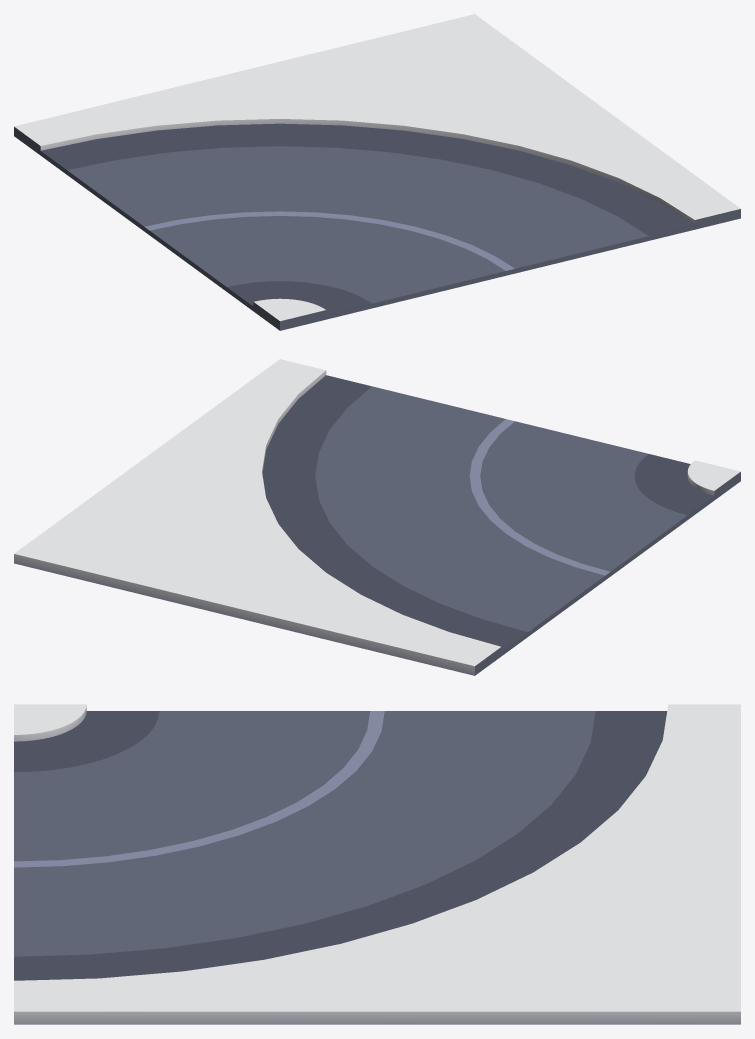
File: kenney-city-roads-road-bend-sidewalk.glb
The picture shows the model from 3 angles, top to bottom: view 1: azimuth 30°, elevation 25°; view 2: azimuth 150°, elevation 25°; view 3: azimuth 270°, elevation 25°; orthographic projection. The views are drawn at different scales.
Visible parts, largest first — view 1: road-bend-sidewalk; view 2: road-bend-sidewalk; view 3: road-bend-sidewalk.
Part boxes in pixels (bbox=[...]): road-bend-sidewalk: bbox=[14, 14, 740, 330]; road-bend-sidewalk: bbox=[14, 359, 740, 675]; road-bend-sidewalk: bbox=[14, 704, 740, 1024].
Bounding box in the file's own units: 1 × 0.02 × 1.
Materials: 1 (1 with a texture image).
